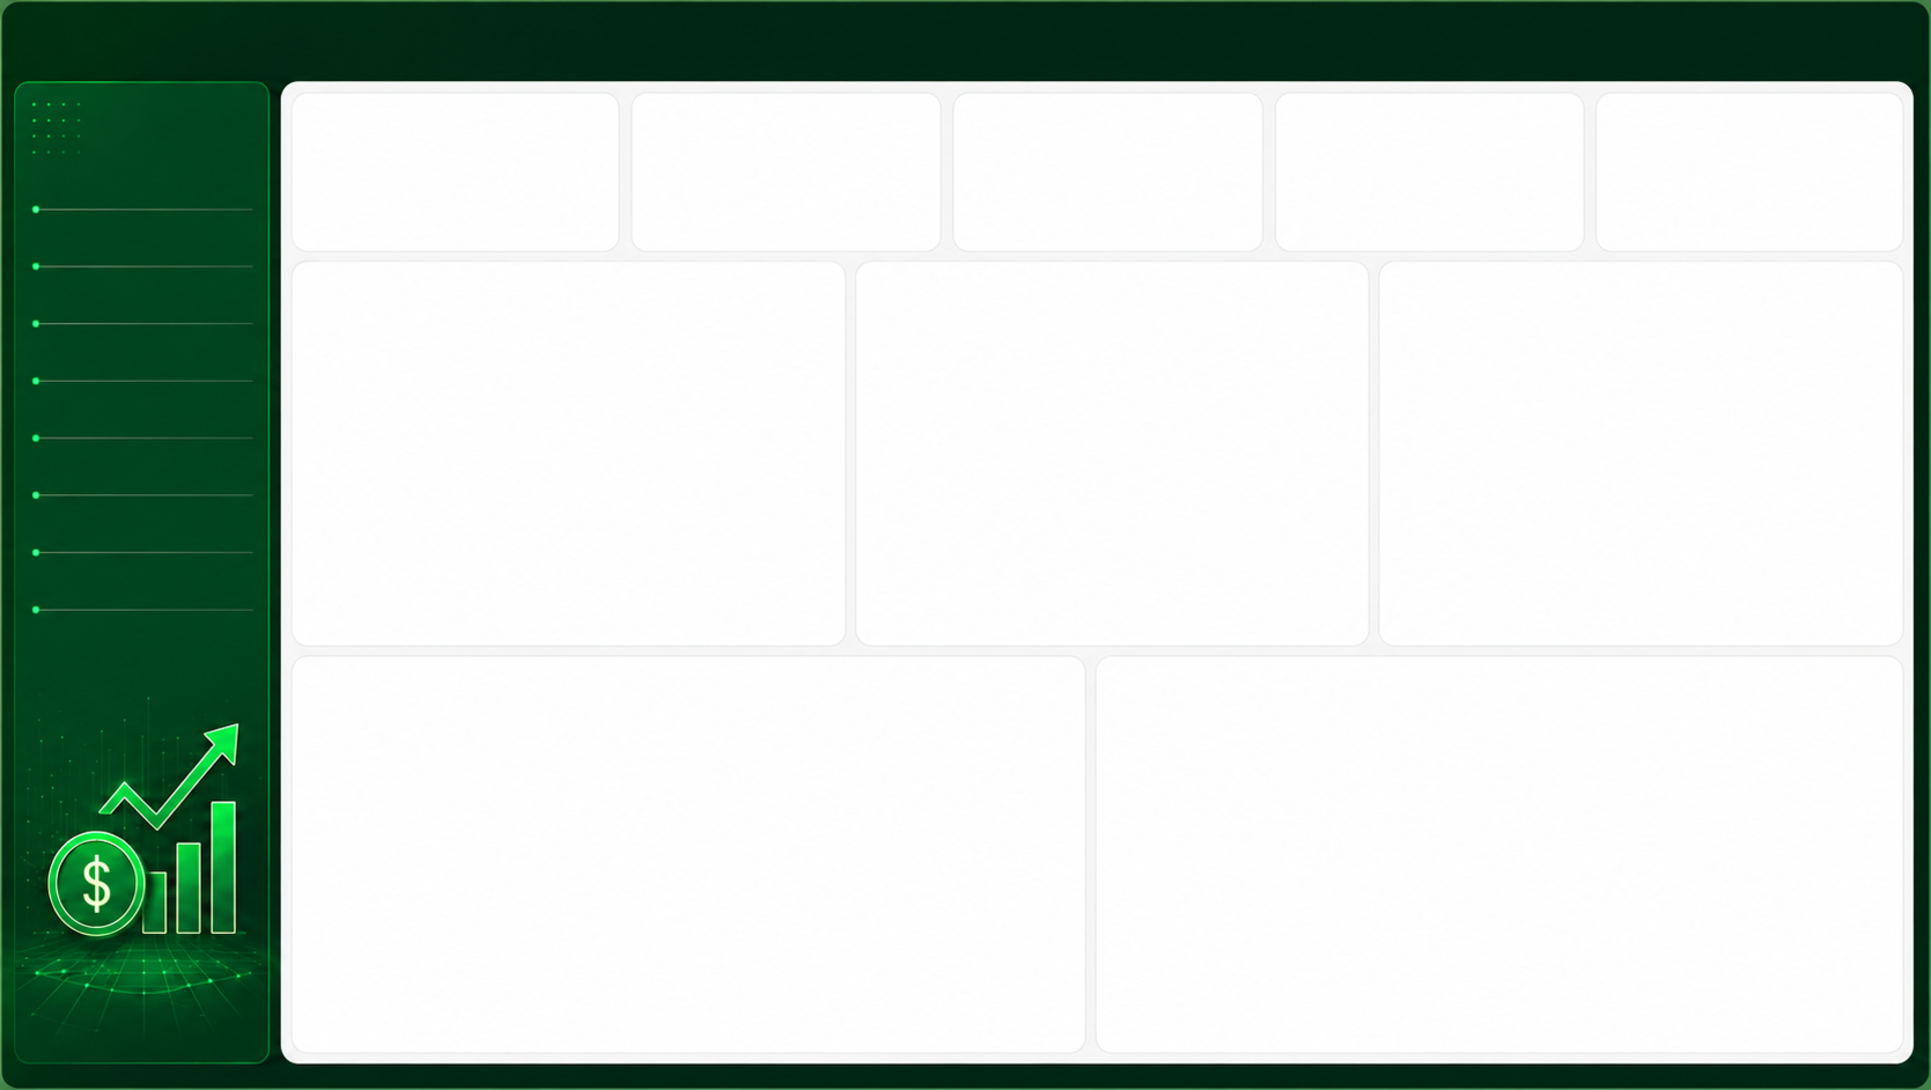

This screenshot's page, from the dashboard's own definition file:
{"tool":"powerbi","page":{"name":"Job Market Overview","canvas":[2020,1110],"ordinal":0},"visuals":[{"type":"cardVisual","title":"TOTAL JOBS","fields":{"Data":["AI_Jobs_2026.Total Jobs"]},"box":[1665,104.3,315.2,153.2],"z":0},{"type":"cardVisual","title":"AVERAGE SALARY","fields":{"Data":["AI_Jobs_2026.Average Salary"]},"box":[333,102.1,301.9,155.4],"z":1000},{"type":"cardVisual","title":"HIGHEST SALARY","fields":{"Data":["AI_Jobs_2026.Highest Salary"]},"box":[1012.3,102.1,288.6,153.2],"z":2000},{"type":"cardVisual","title":"AVG YEAR OF EXPERIENCE","fields":{"Data":["AI_Jobs_2026.Average Experience"]},"box":[650.5,102.1,333,153.2],"z":3000},{"type":"cardVisual","title":"AVG JOB SATISFACTION","fields":{"Data":["AI_Jobs_2026.Average Satisfaction"]},"box":[1323.1,104.3,319.7,153.2],"z":4000},{"type":"donutChart","title":"JOBS BY EXPERIENCE LEVEL","fields":{"Category":["AI_Jobs_2026.experience_level"],"Y":["AI_Jobs_2026.Total Jobs"]},"box":[863.6,277.5,503.9,348.5],"z":5000},{"type":"clusteredBarChart","title":"AVERAGE SALARY BY INDUSTRY","fields":{"Category":["AI_Jobs_2026.industry"],"Y":["AI_Jobs_2026.Average Salary"]},"box":[1386.5,276.5,593.3,349.1],"z":6000},{"type":"donutChart","title":"REMOTE WORK ANALYSIS","fields":{"Category":["AI_Jobs_2026.Remote Work Type"],"Y":["AI_Jobs_2026.Total Jobs"]},"box":[333,652.7,512.8,421.8],"z":7000},{"type":"columnChart","title":"AVERAGE SALARY BY COMPANY SIZE","fields":{"Category":["AI_Jobs_2026.Company Size Full"],"Y":["AI_Jobs_2026.Average Salary"]},"box":[863.6,652.7,503.9,421.8],"z":8000},{"type":"scatterChart","title":"YEARS OF EXPERIENCE VS SALARY","fields":{"Y":["Count(AI_Jobs_2026.salary_usd)"],"X":["Sum(AI_Jobs_2026.years_experience)"],"Series":["AI_Jobs_2026.experience_level"],"Category":["AI_Jobs_2026.job_title"]},"box":[1386.5,651.9,593.3,421.8],"z":9000},{"type":"textbox","box":[102.9,0,1933.4,74.7],"z":10000},{"type":"clusteredBarChart","title":"AVERAGE SALARY BY JOB TITLE","fields":{"Y":["AI_Jobs_2026.Average Salary"],"Category":["AI_Jobs_2026.job_title"]},"box":[333,276.5,512.6,351.2],"z":11000},{"type":"pageNavigator","box":[0,144.3,313,905.8],"z":15000}]}

Visuals, with their boxes in screenshot pixels (x1, y1, x2, y2), scaled from the page's 2020x1110 canvas onto the 1931x1090 screenshot:
"TOTAL JOBS" cardVisual: Rect(1592, 102, 1893, 253)
"AVERAGE SALARY" cardVisual: Rect(318, 100, 607, 253)
"HIGHEST SALARY" cardVisual: Rect(968, 100, 1244, 251)
"AVG YEAR OF EXPERIENCE" cardVisual: Rect(622, 100, 940, 251)
"AVG JOB SATISFACTION" cardVisual: Rect(1265, 102, 1570, 253)
"JOBS BY EXPERIENCE LEVEL" donutChart: Rect(826, 272, 1307, 615)
"AVERAGE SALARY BY INDUSTRY" clusteredBarChart: Rect(1325, 272, 1893, 614)
"REMOTE WORK ANALYSIS" donutChart: Rect(318, 641, 809, 1055)
"AVERAGE SALARY BY COMPANY SIZE" columnChart: Rect(826, 641, 1307, 1055)
"YEARS OF EXPERIENCE VS SALARY" scatterChart: Rect(1325, 640, 1893, 1054)
textbox: Rect(98, 0, 1930, 73)
"AVERAGE SALARY BY JOB TITLE" clusteredBarChart: Rect(318, 272, 808, 616)
pageNavigator: Rect(0, 142, 299, 1031)
